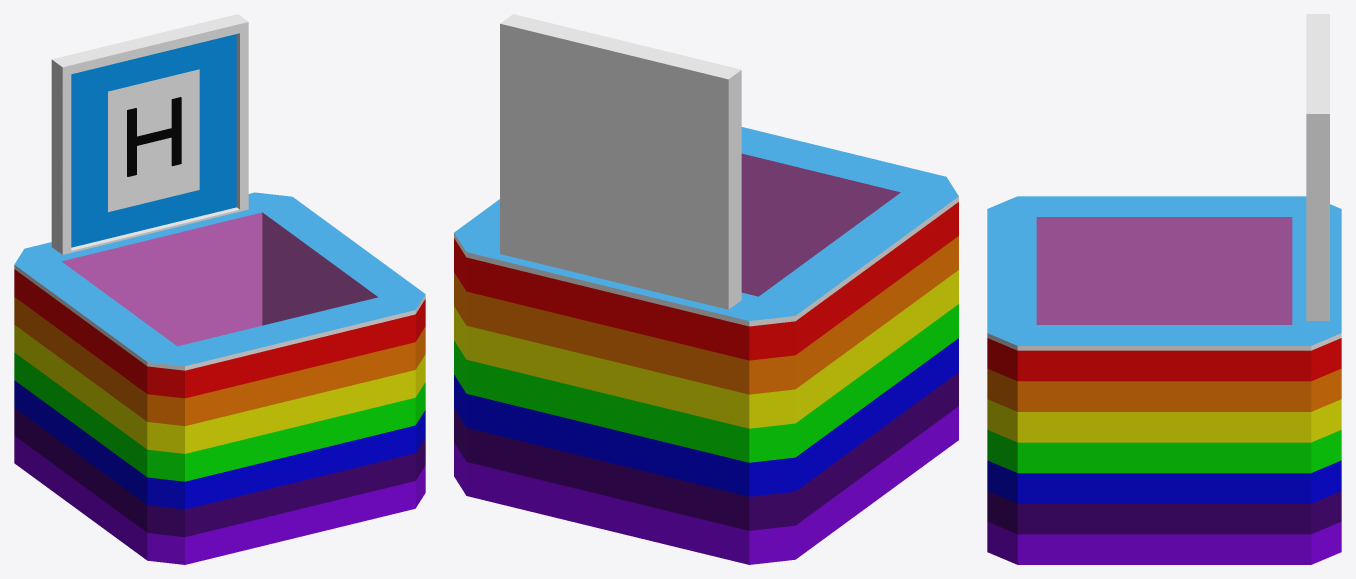
3 views of the same model, side by side, from view 1: azimuth 30°, elevation 25°; view 2: azimuth 150°, elevation 25°; view 3: azimuth 270°, elevation 25° (orthographic). The views are drawn at different scales.
Visible parts, largest first — view 1: Cube.001, Text; view 2: Cube.001; view 3: Cube.001.
Part boxes in pixels (box(x1,y1,x2,y2)): Cube.001: box(14, 14, 425, 564); Text: box(127, 97, 181, 176); Cube.001: box(454, 14, 958, 564); Cube.001: box(987, 14, 1341, 564).
Bounding box in the file's own units: 383 × 508 × 383.
